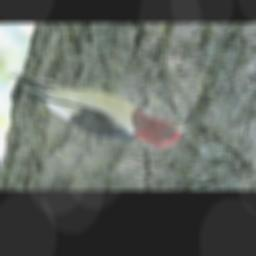Woodpecker: (2, 62, 201, 153)
